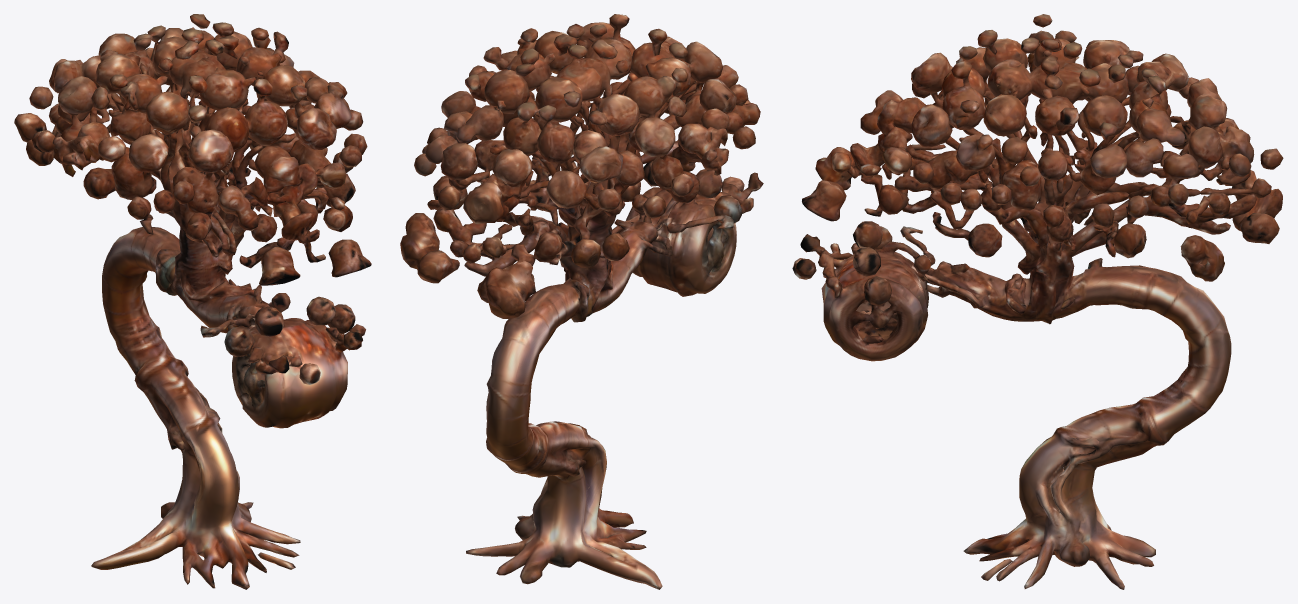
The model's file is AI_MetallicTree.fbx.
3 renders of one model, left to right at view 1: azimuth 30°, elevation 25°; view 2: azimuth 150°, elevation 25°; view 3: azimuth 270°, elevation 25°, orthographic. The views are drawn at different scales.
Parts seen in each view (by area): view 1: Mesh1.0; view 2: Mesh1.0; view 3: Mesh1.0.
Boxes of the visible parts, box(x1,y1,x2,y2) form: Mesh1.0: box(14, 14, 371, 589); Mesh1.0: box(400, 14, 763, 589); Mesh1.0: box(792, 14, 1283, 589).
Size of the model in its own units: 109 by 200 by 172.
Materials: 1 (1 with a texture image).
